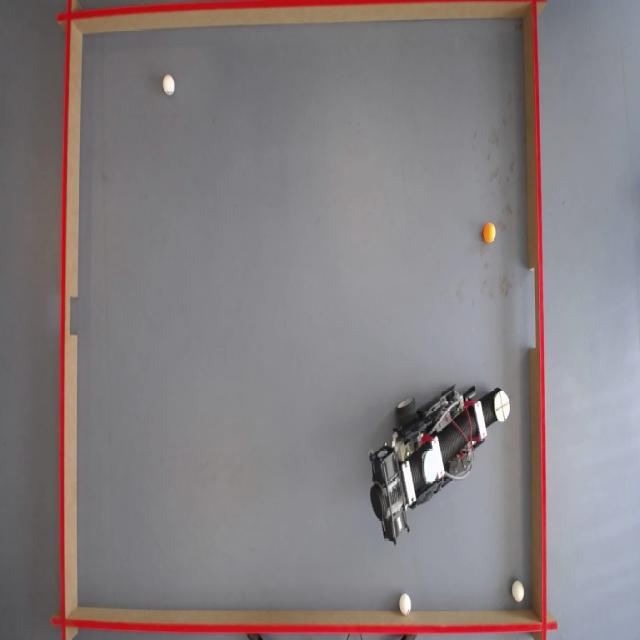orange: (484, 222, 497, 242)
robot: (363, 379, 514, 538)
robot-front: (494, 390, 511, 420)
robot-rear: (424, 446, 442, 480)
white: (513, 582, 526, 604), (399, 593, 412, 615), (164, 76, 177, 96)
